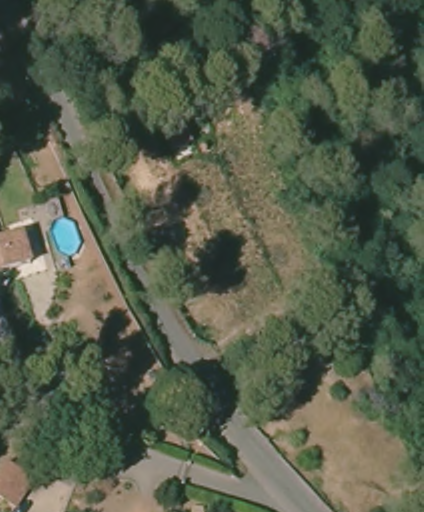pool: (47, 212, 86, 260)
